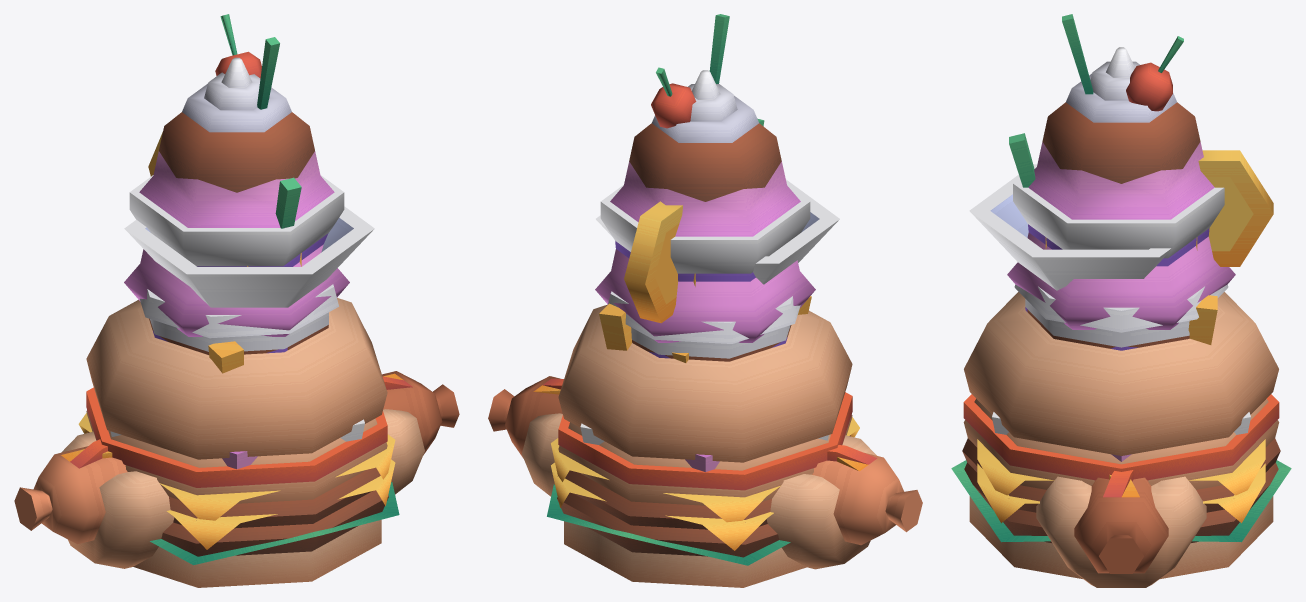
The model's file is food.glb.
3 renders of one model, left to right at view 1: azimuth 30°, elevation 25°; view 2: azimuth 150°, elevation 25°; view 3: azimuth 270°, elevation 25°, orthographic. The views are drawn at different scales.
Visible parts, largest first — view 1: bun-top (×2), sundae, sausage, hot-dog, cocktail, patty (×2), bun-bottom, tomato, Group, cheese (×2), frappe, soda (+6 smaller); view 2: bun-top (×2), sundae, sausage, hot-dog, Group, patty (×2), bun-bottom, tomato, lemon, cheese (×2), frappe, cocktail (+7 smaller); view 3: bun-top (×2), sundae, Group, hot-dog, tomato, cocktail, sausage, lemon, bun-bottom, cheese (×2), patty (×2), frappe (+7 smaller).
Part boxes in pixels (x1,y1,x2,y2): bun-top (×2): [86, 298, 387, 503]; sundae: [129, 57, 344, 266]; sausage: [14, 371, 459, 544]; hot-dog: [61, 409, 424, 568]; cocktail: [124, 206, 374, 307]; patty (×2): [88, 431, 388, 556]; bun-bottom: [133, 519, 381, 587]; tomato: [86, 387, 387, 487]; Group: [124, 244, 349, 336]; cheese (×2): [78, 413, 395, 549]; frappe: [141, 284, 333, 354]; soda: [139, 287, 338, 353]; bun-top (×2): [558, 304, 852, 505]; sundae: [600, 70, 810, 281]; sausage: [488, 376, 922, 545]; hot-dog: [522, 413, 876, 569]; Group: [595, 249, 815, 342]; patty (×2): [557, 435, 850, 557]; bun-bottom: [564, 521, 806, 587]; tomato: [558, 392, 852, 490]; lemon: [624, 201, 682, 323]; cheese (×2): [551, 417, 859, 550]; frappe: [610, 291, 798, 361]; cocktail: [596, 179, 839, 284]; bun-top (×2): [963, 292, 1279, 489]; sundae: [1013, 47, 1224, 266]; Group: [1007, 232, 1235, 329]; hot-dog: [1036, 476, 1206, 587]; tomato: [963, 394, 1279, 480]; cocktail: [969, 164, 1171, 290]; sausage: [1074, 477, 1168, 573]; lemon: [1198, 150, 1273, 266]; bun-bottom: [969, 496, 1273, 578]; cheese (×2): [977, 439, 1265, 523]; patty (×2): [962, 438, 1280, 542]; frappe: [1014, 284, 1228, 348].
Bounding box in the file's own units: 0.5859 × 0.6679 × 0.4041.
Materials: 1 (1 with a texture image).
